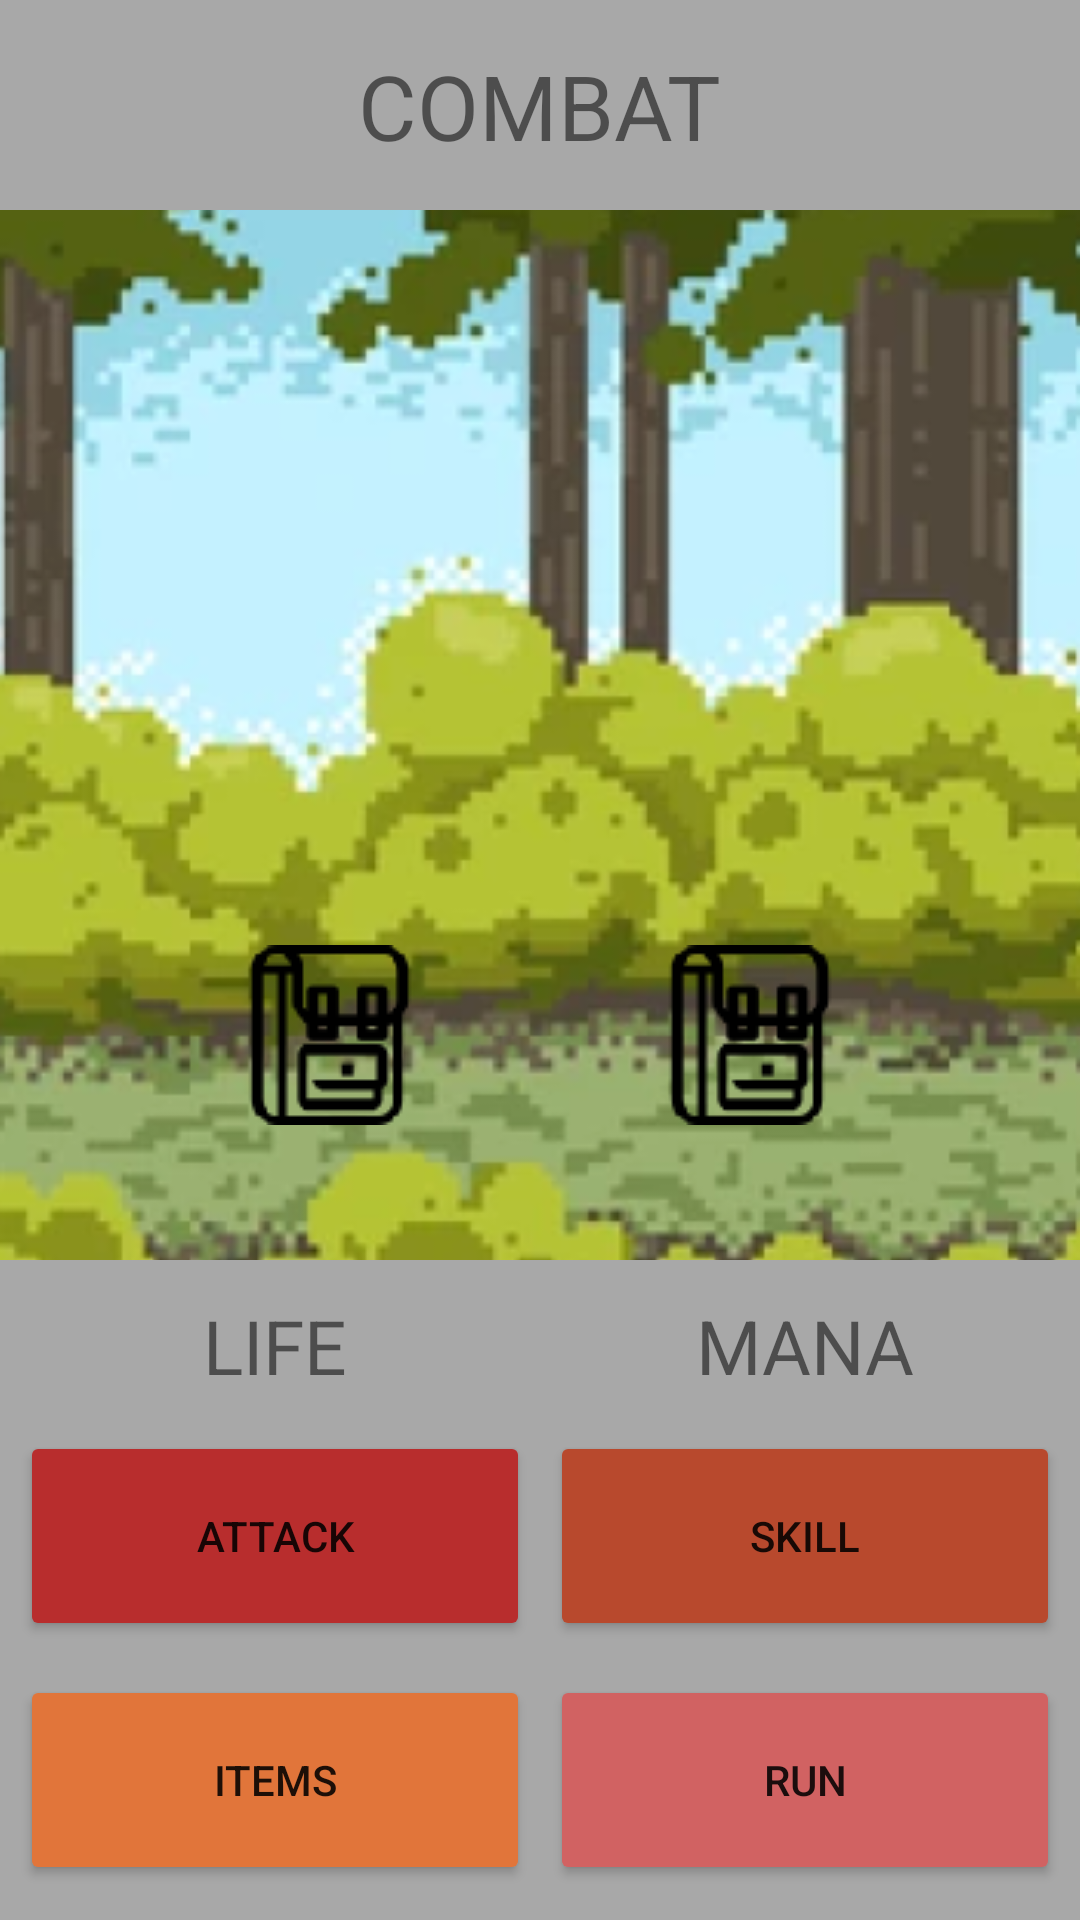

Named icons in this screenshot (1080x1920) and their centers, [x,y]:
backpack: [330,1035], [750,1035]
